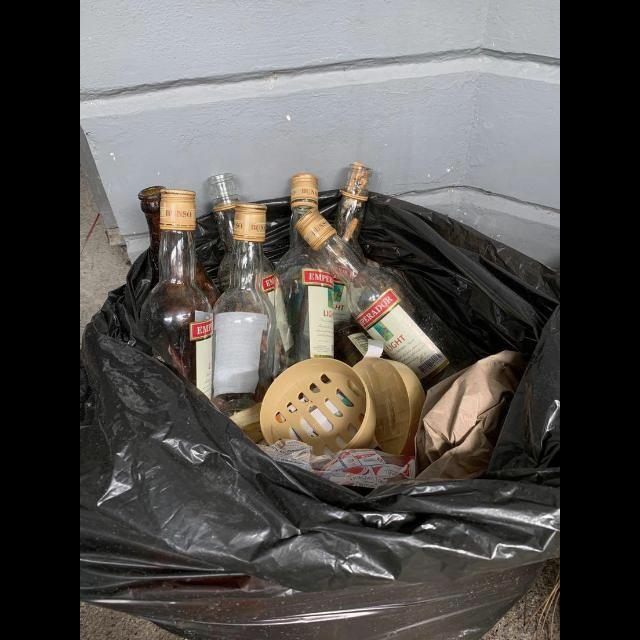glass_bottle: (295, 209, 473, 392), (141, 190, 213, 401), (213, 206, 275, 413), (274, 173, 334, 376)
paper: (415, 350, 528, 480)
